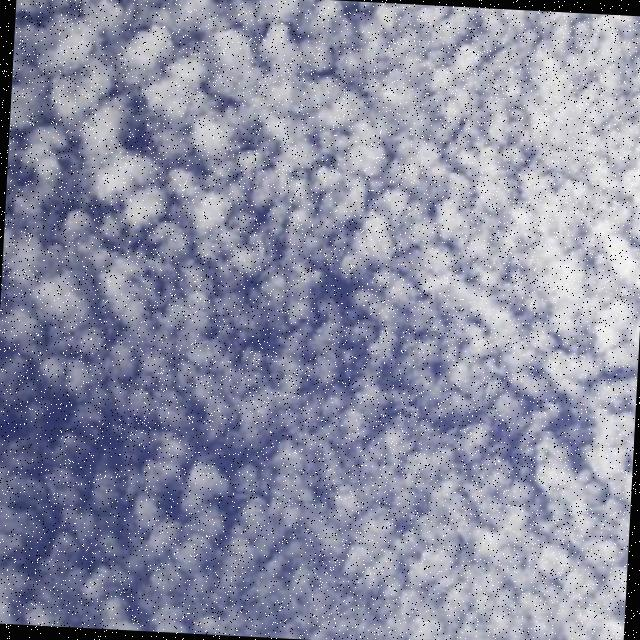Cs: (1, 80, 640, 602)
